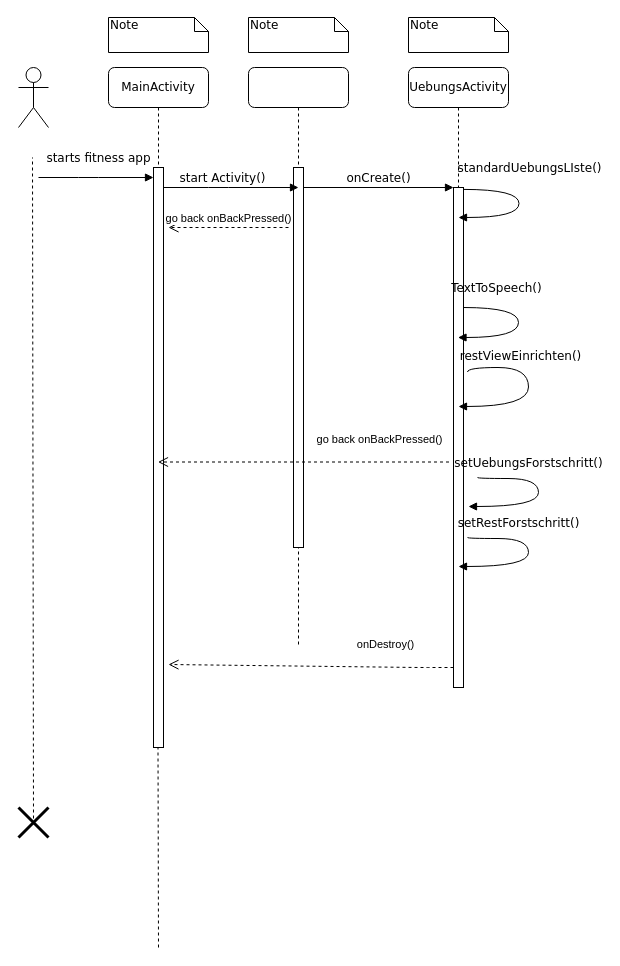
This 620x966 diagram has some shape labels left out. Here are the shapes that lost their labels. From the top down, the box of each, then its label:
(18, 66, 48, 128): Actor
(248, 66, 348, 648): Android Runtime
